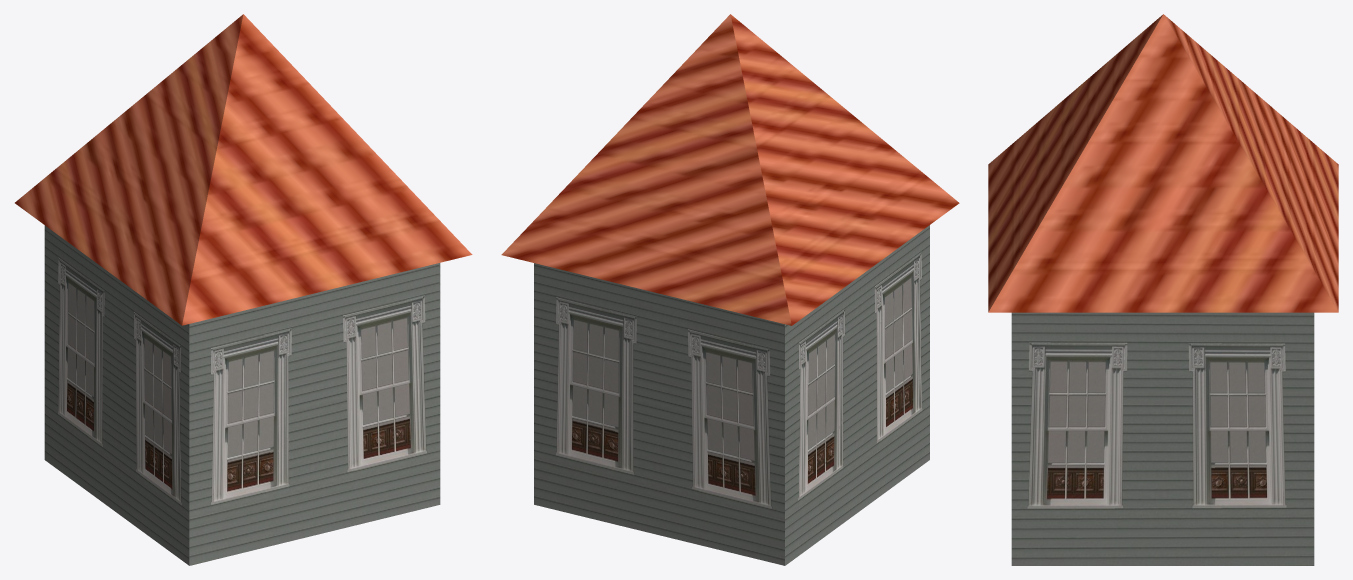
File: house.fbx
3 views of the same model, side by side, from view 1: azimuth 30°, elevation 25°; view 2: azimuth 150°, elevation 25°; view 3: azimuth 270°, elevation 25° (orthographic). The views are drawn at different scales.
Visible parts, largest first — view 1: base, rooftop; view 2: base, rooftop; view 3: rooftop, base.
Part boxes in pixels (x1,y1,x2,y2): base: [44, 225, 440, 565]; rooftop: [15, 14, 472, 325]; base: [534, 225, 929, 565]; rooftop: [501, 14, 959, 325]; rooftop: [988, 14, 1338, 312]; base: [1011, 312, 1314, 565].
Bounding box in the file's own units: 2.32 × 3.56 × 2.32.
